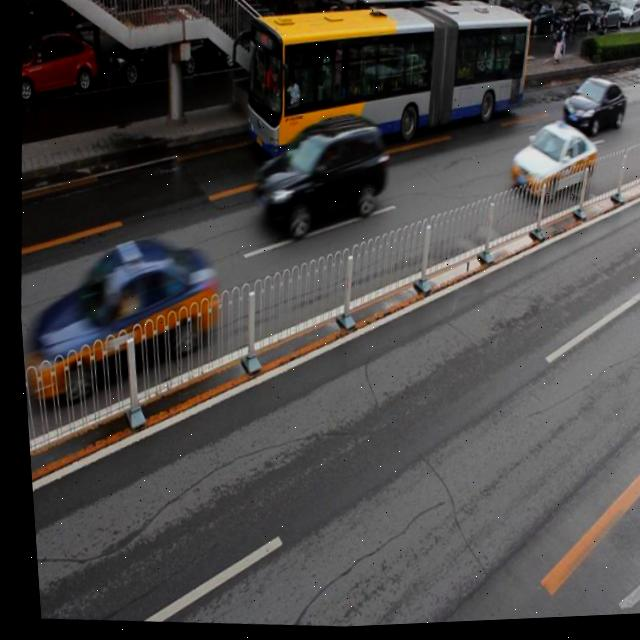car: (29, 229, 218, 406), (501, 119, 596, 209), (103, 14, 206, 85), (16, 25, 99, 101), (208, 3, 283, 73), (292, 5, 368, 68), (556, 76, 626, 143)
truck: (246, 108, 391, 243)
van: (240, 0, 536, 175)
